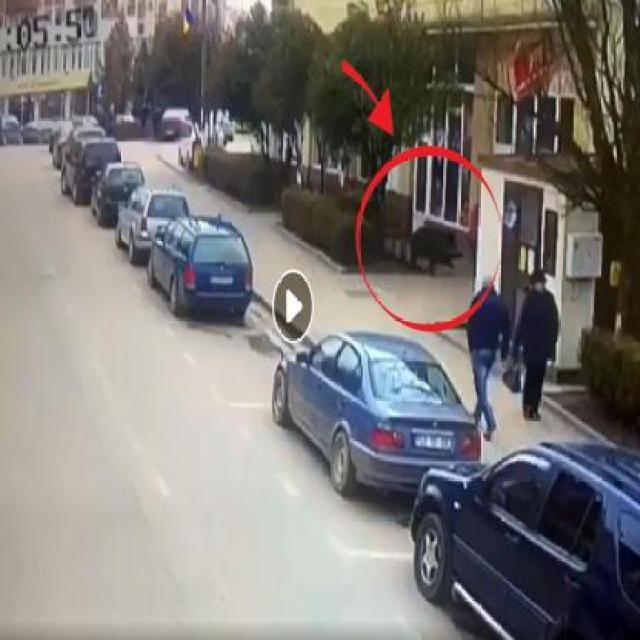wildboar: (408, 222, 464, 275)
